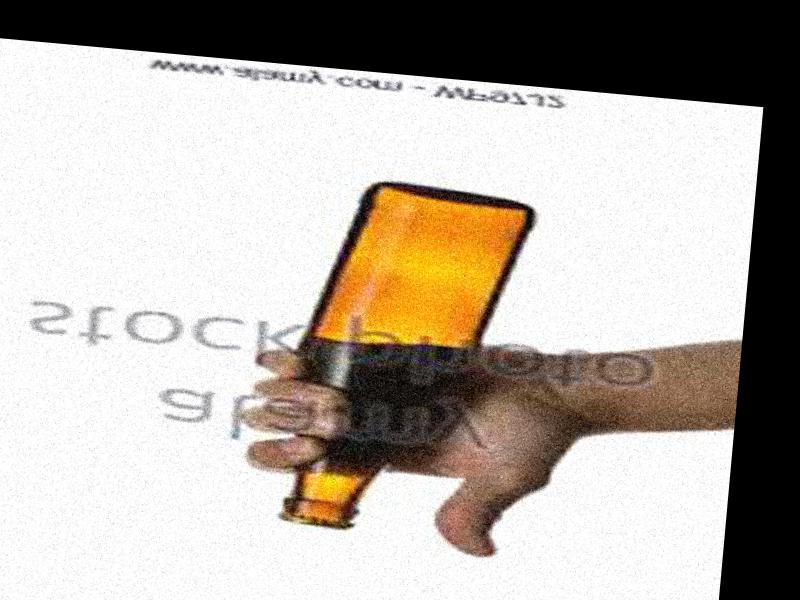Beer: (273, 176, 540, 540)
